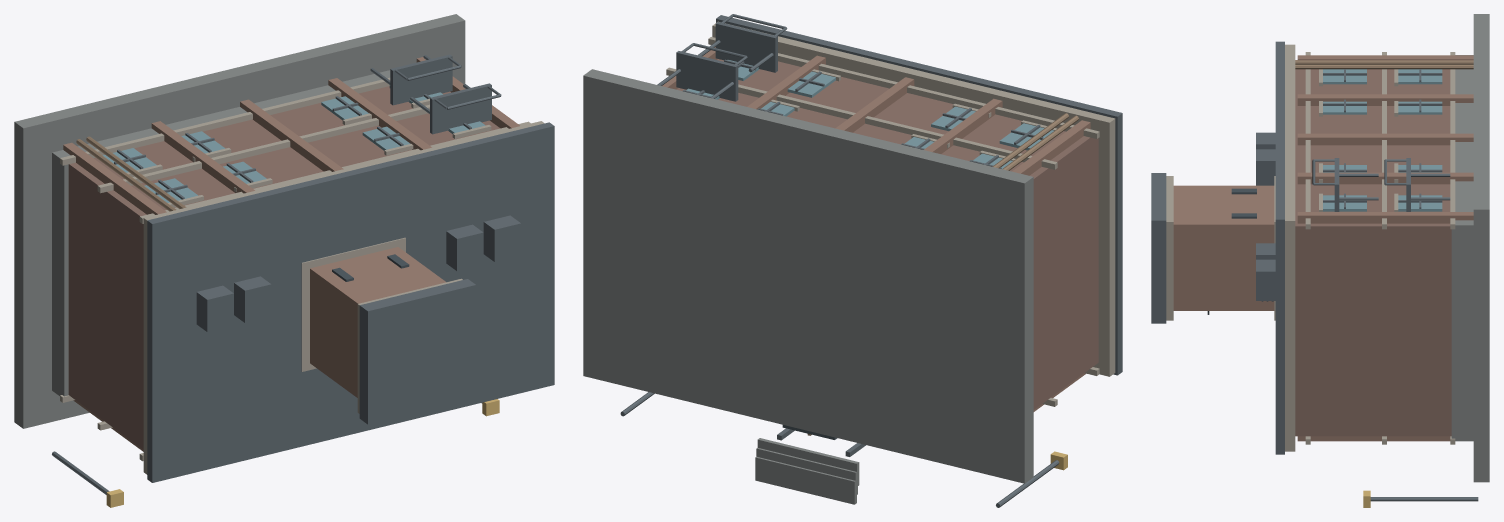
Rendered from powerquest_school.glb.
The picture shows the model from 3 angles, left to right: view 1: azimuth 30°, elevation 25°; view 2: azimuth 150°, elevation 25°; view 3: azimuth 270°, elevation 25°; orthographic projection. The views are drawn at different scales.
Visible parts, largest first — view 1: 004_roof, 000_foundation, 001_main brick school, 099_tower cap, 096_clock tower shaft, 002_lower stone plinth, 003_upper cornice, 018_stone horizontal belt, 016_stone horizontal belt, 124_rear fire escape platform, 127_rear fire escape platform, 097_tower corner base (+11 smaller); view 2: 000_foundation, 001_main brick school, 003_upper cornice, 004_roof, 095_entry stairs, 020_stone horizontal belt, 018_stone horizontal belt, 124_rear fire escape platform, 127_rear fire escape platform, 093_entry stairs, 010_brick buttress, 006_brick buttress (+4 smaller); view 3: 001_main brick school, 096_clock tower shaft, 000_foundation, 002_lower stone plinth, 003_upper cornice, 004_roof, 099_tower cap, 010_brick buttress, 014_brick buttress, 012_brick buttress, 008_brick buttress, 098_tower cornice (+16 smaller).
Part boxes in pixels (bbox=[...]): 004_roof: bbox=[147, 122, 554, 482]; 000_foundation: bbox=[14, 14, 465, 428]; 001_main brick school: bbox=[68, 86, 500, 449]; 099_tower cap: bbox=[359, 279, 475, 424]; 096_clock tower shaft: bbox=[310, 247, 445, 397]; 002_lower stone plinth: bbox=[52, 70, 390, 396]; 003_upper cornice: bbox=[143, 121, 544, 474]; 018_stone horizontal belt: bbox=[97, 104, 429, 193]; 016_stone horizontal belt: bbox=[60, 77, 390, 165]; 124_rear fire escape platform: bbox=[390, 54, 452, 105]; 127_rear fire escape platform: bbox=[430, 83, 491, 134]; 097_tower corner base: bbox=[301, 237, 405, 371]; 000_foundation: bbox=[583, 69, 1033, 483]; 001_main brick school: bbox=[676, 59, 1098, 409]; 003_upper cornice: bbox=[712, 21, 1115, 376]; 004_roof: bbox=[716, 15, 1122, 375]; 095_entry stairs: bbox=[755, 456, 856, 504]; 020_stone horizontal belt: bbox=[708, 37, 1099, 138]; 018_stone horizontal belt: bbox=[666, 67, 1057, 169]; 124_rear fire escape platform: bbox=[676, 51, 738, 101]; 127_rear fire escape platform: bbox=[715, 22, 777, 72]; 093_entry stairs: bbox=[757, 438, 859, 486]; 010_brick buttress: bbox=[835, 77, 914, 132]; 006_brick buttress: bbox=[1012, 120, 1090, 175]; 001_main brick school: bbox=[1295, 60, 1451, 436]; 096_clock tower shaft: bbox=[1173, 185, 1274, 310]; 000_foundation: bbox=[1473, 14, 1489, 482]; 002_lower stone plinth: bbox=[1451, 55, 1473, 441]; 003_upper cornice: bbox=[1285, 44, 1295, 451]; 004_roof: bbox=[1275, 41, 1284, 454]; 099_tower cap: bbox=[1151, 173, 1166, 323]; 010_brick buttress: bbox=[1297, 133, 1473, 145]; 014_brick buttress: bbox=[1297, 212, 1473, 223]; 012_brick buttress: bbox=[1297, 172, 1473, 184]; 008_brick buttress: bbox=[1297, 94, 1473, 105]; 098_tower cornice: bbox=[1166, 176, 1173, 320].
Bounding box in the file's own units: 20 × 15.91 × 14.62.
